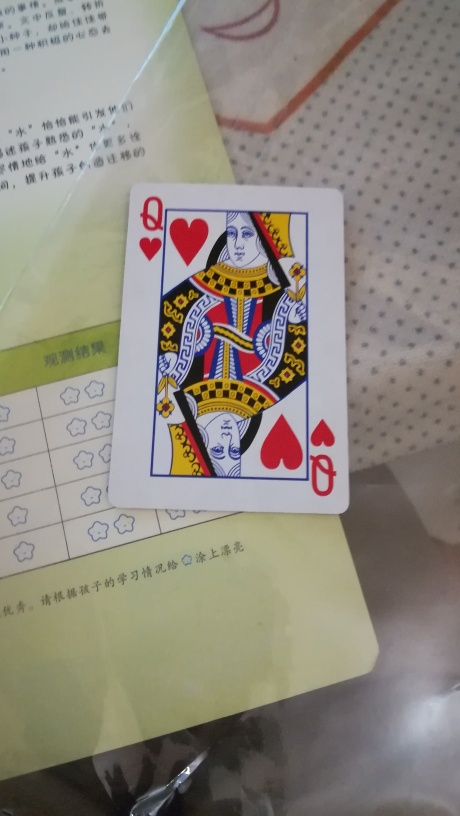hx q: (111, 181, 351, 516)
